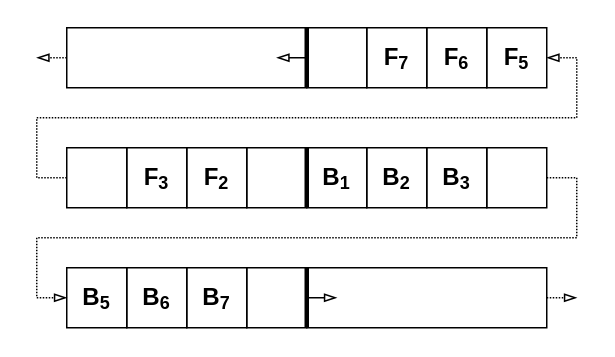
Image size: 615x357. Some labels were removed from this diagram. Here are the shapes that lost their labels. From the top down, the box of each, then its label:
(305, 26, 367, 88): F 8
(65, 146, 127, 208): F 4
(245, 146, 307, 208): F 1
(485, 146, 547, 208): B 4
(245, 266, 307, 328): B 8
